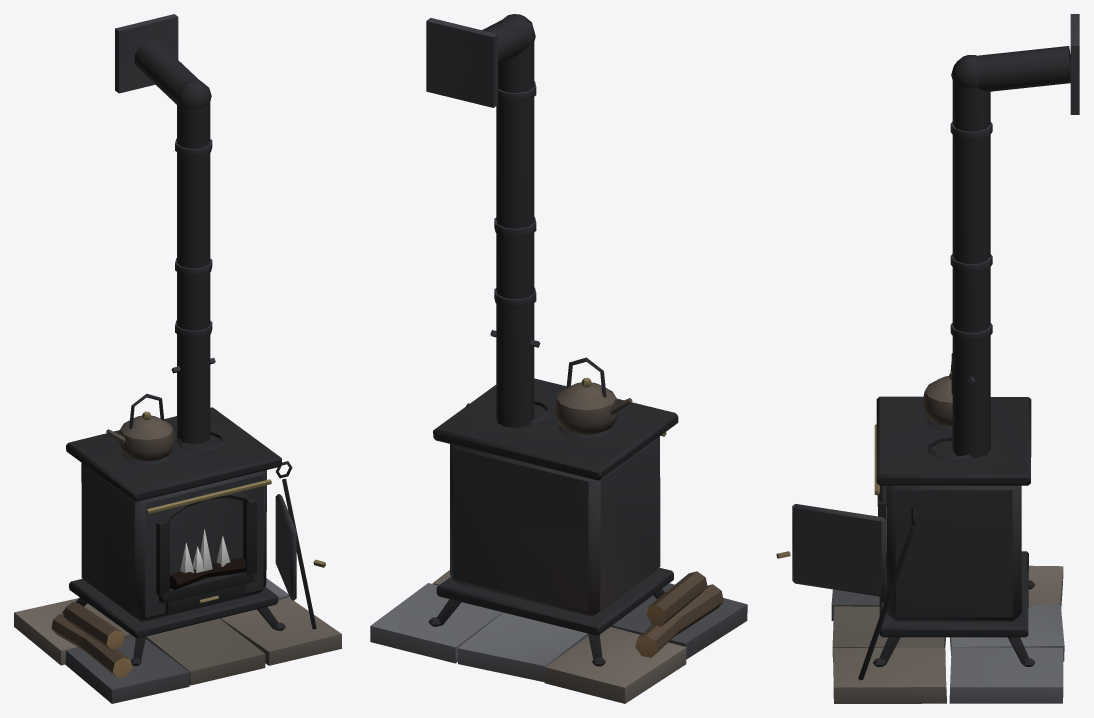
File: ph_int_stove.glb
3 views of the same model, side by side, from view 1: azimuth 30°, elevation 25°; view 2: azimuth 150°, elevation 25°; view 3: azimuth 270°, elevation 25° (orthographic). The views are drawn at different scales.
Visible parts, largest first — view 1: ph_int_stove; view 2: ph_int_stove; view 3: ph_int_stove.
Part boxes in pixels (box(x1,y1,x2,y2)): ph_int_stove: box(14, 14, 341, 703); ph_int_stove: box(370, 14, 747, 703); ph_int_stove: box(776, 14, 1079, 703).
Size of the model in its own units: 1 by 2.37 by 1.04.
